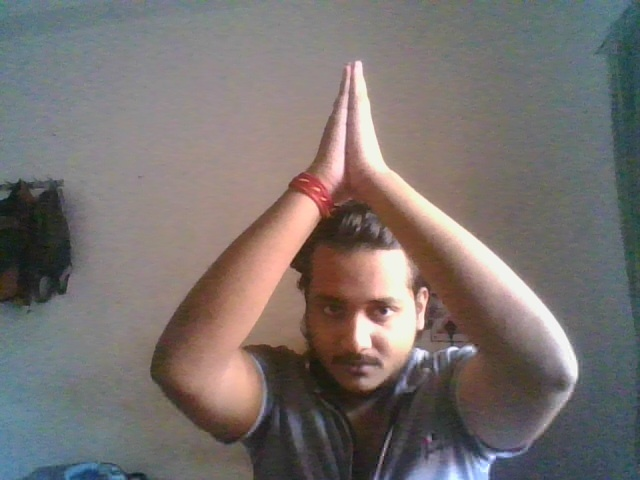ThankYou: (320, 60, 382, 204)
